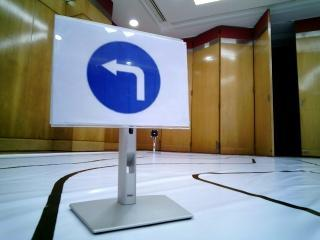left: (65, 25, 179, 125)
